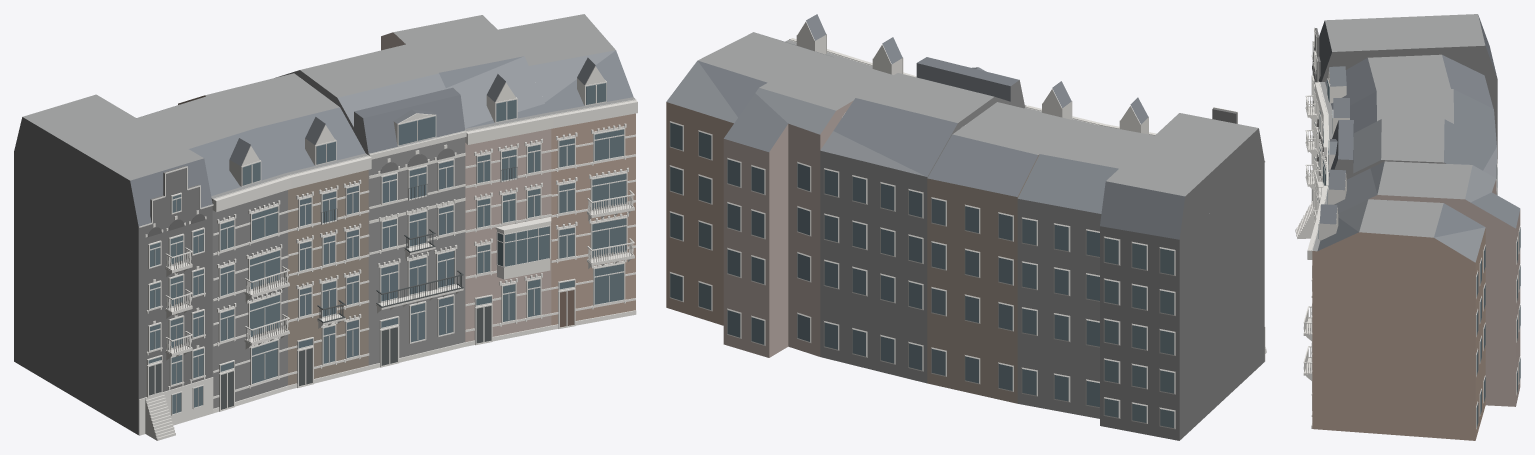
File: chunk-face-nassau-145-152.glb
3 renders of one model, left to right at view 1: azimuth 30°, elevation 25°; view 2: azimuth 150°, elevation 25°; view 3: azimuth 270°, elevation 25°, orthographic. The views are drawn at different scales.
Parts seen in each view (by area): view 1: face-nassau-145-152; view 2: face-nassau-145-152; view 3: face-nassau-145-152.
Boxes of the visible parts, bbox=[...] form: face-nassau-145-152: bbox=[14, 14, 637, 440]; face-nassau-145-152: bbox=[666, 14, 1266, 440]; face-nassau-145-152: bbox=[1295, 14, 1520, 440].
Bounding box in the file's own units: 40.99 × 18.34 × 17.69.
